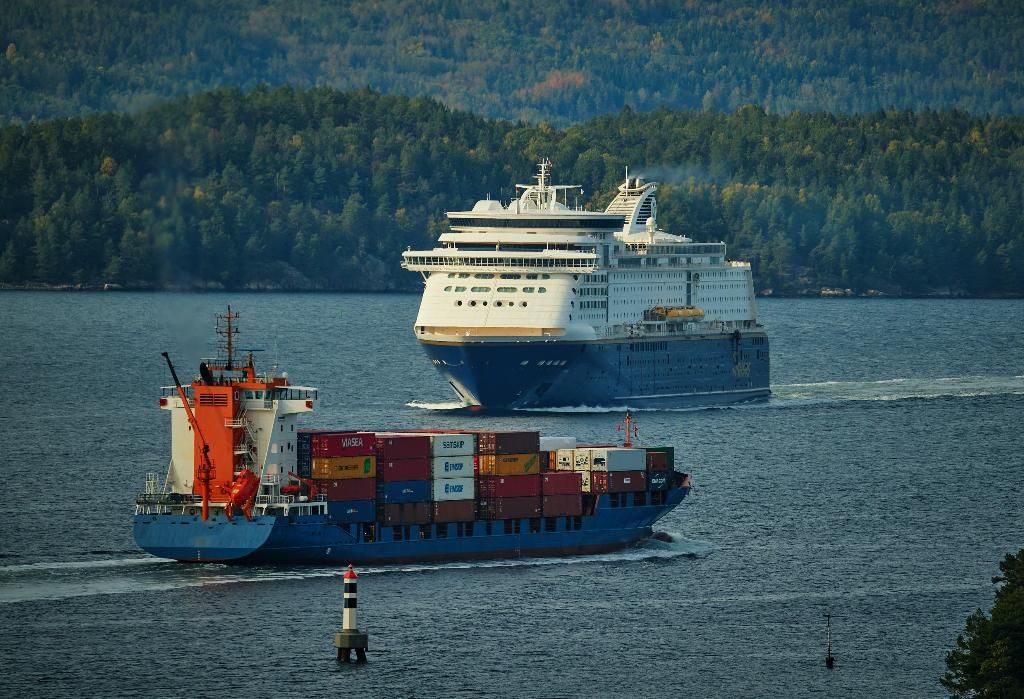PassengerShip: (388, 148, 788, 418)
